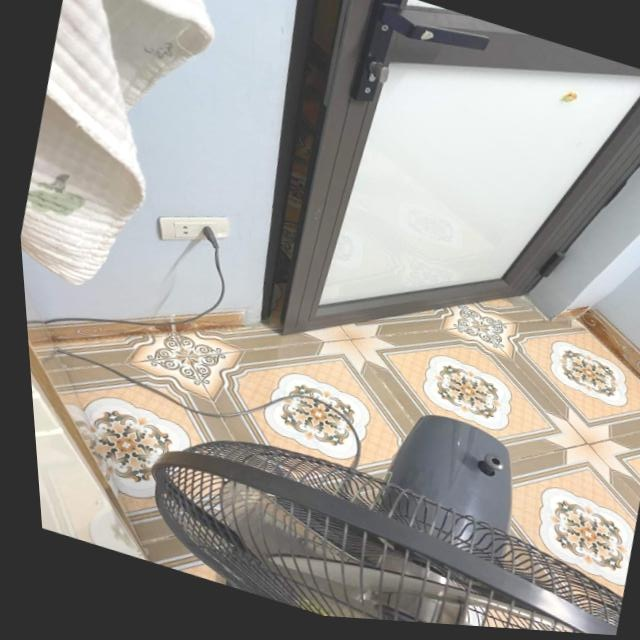outlet: (152, 195, 236, 259)
